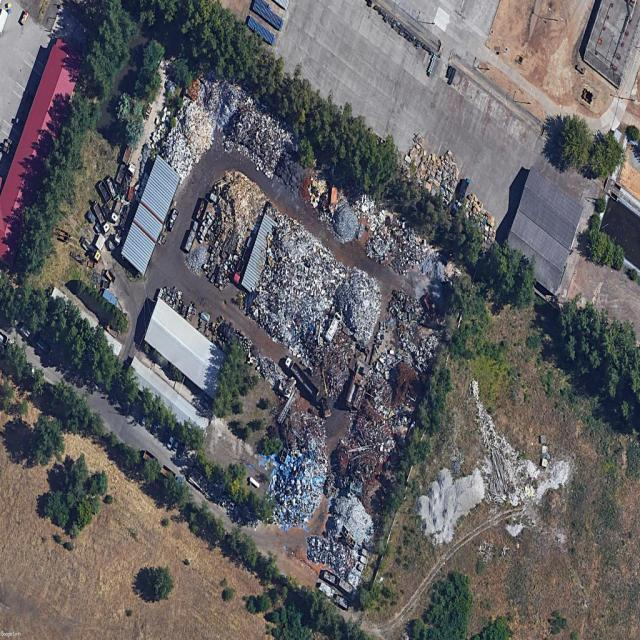dump_site: (328, 349, 428, 519), (247, 217, 349, 367), (256, 404, 339, 553), (184, 164, 270, 294), (362, 199, 448, 305), (372, 285, 447, 379), (223, 92, 293, 181), (298, 309, 360, 406), (400, 121, 467, 209), (330, 256, 385, 348), (302, 528, 367, 589), (323, 484, 379, 553), (176, 84, 218, 166), (160, 115, 196, 186), (461, 191, 501, 247), (328, 194, 364, 252), (253, 351, 295, 398), (216, 79, 247, 137), (201, 71, 229, 134), (185, 229, 197, 252)
